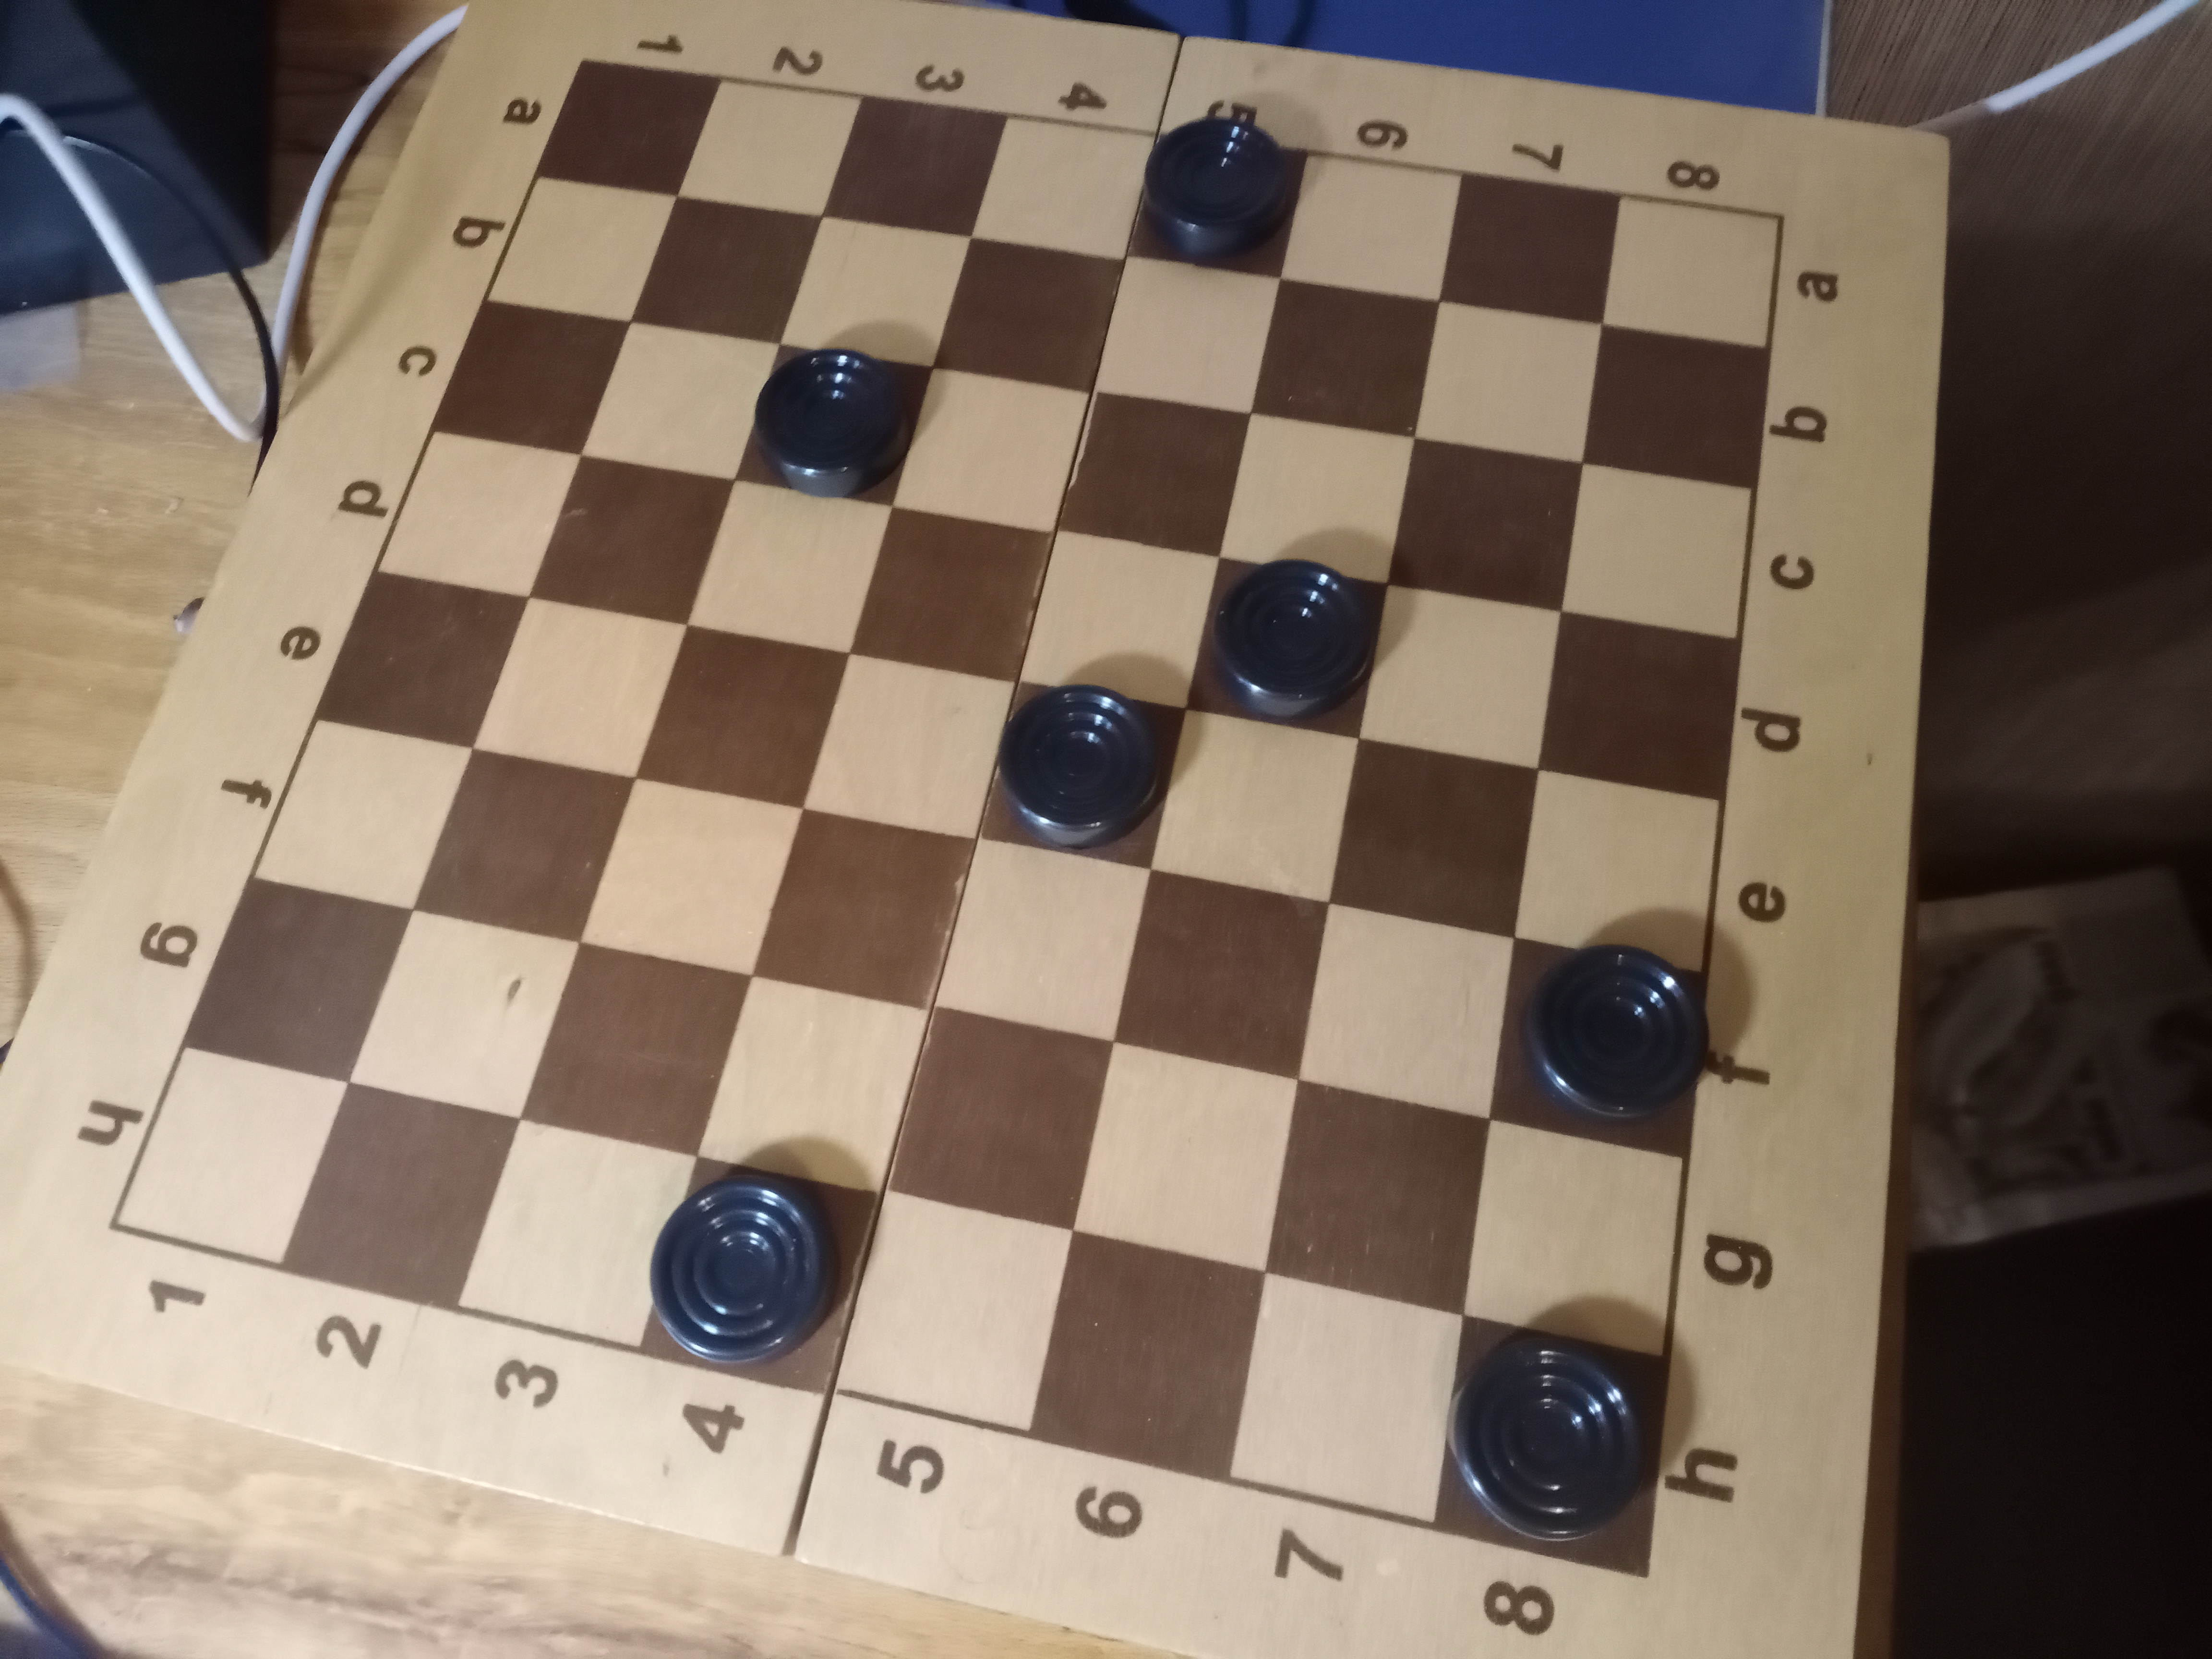Black_Draught: (1433, 1316, 1665, 1577), (636, 1159, 878, 1392), (1487, 939, 1710, 1157), (977, 681, 1188, 870), (1184, 558, 1386, 739), (733, 345, 932, 507), (1130, 118, 1306, 279)
